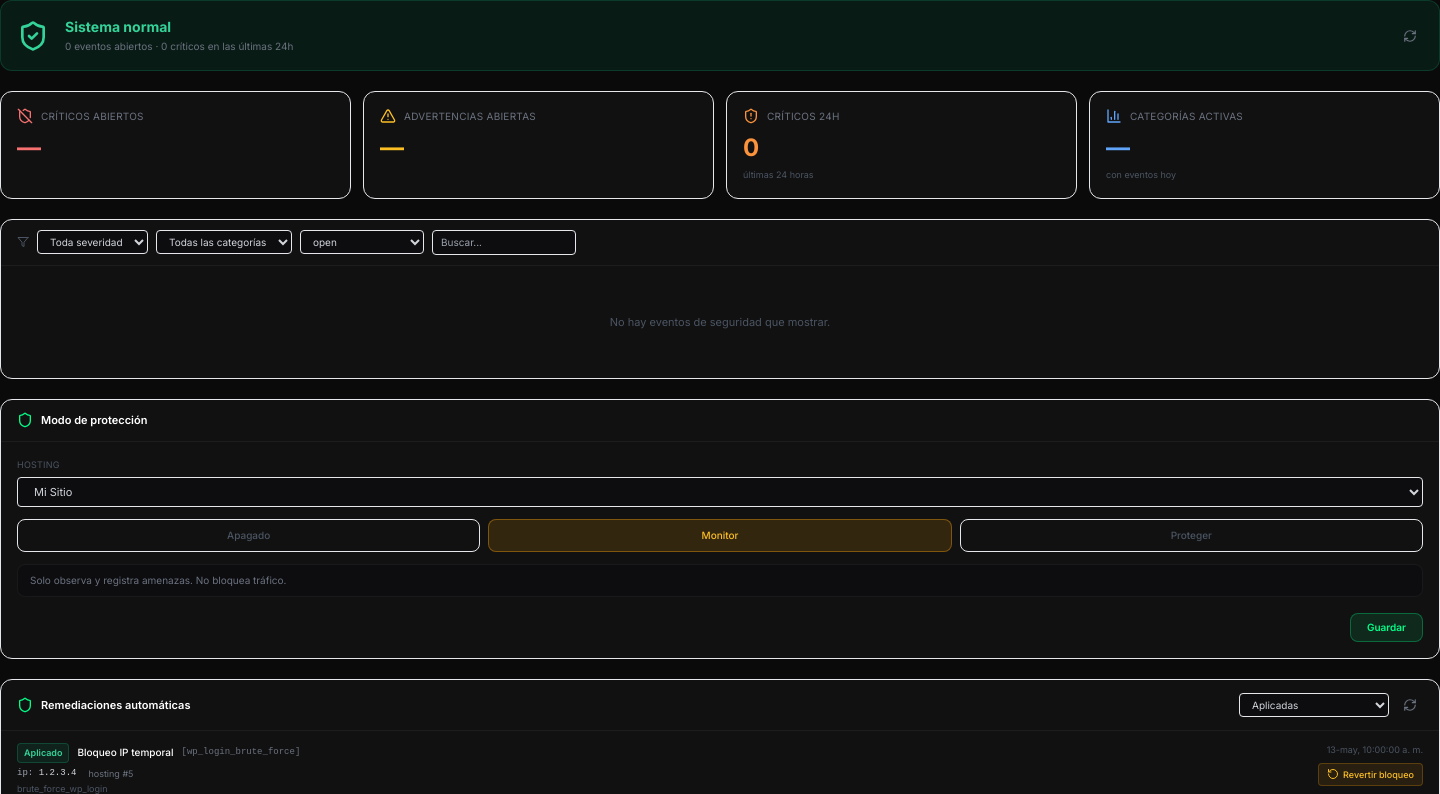
Test: SecurityCenter — RemediationsSection › confirming rollback shows success toast with correct message
The image size is (1440, 794).
Click the button with test id "rollback-btn".
click(1371, 774)  # box [1318, 762, 1423, 786]
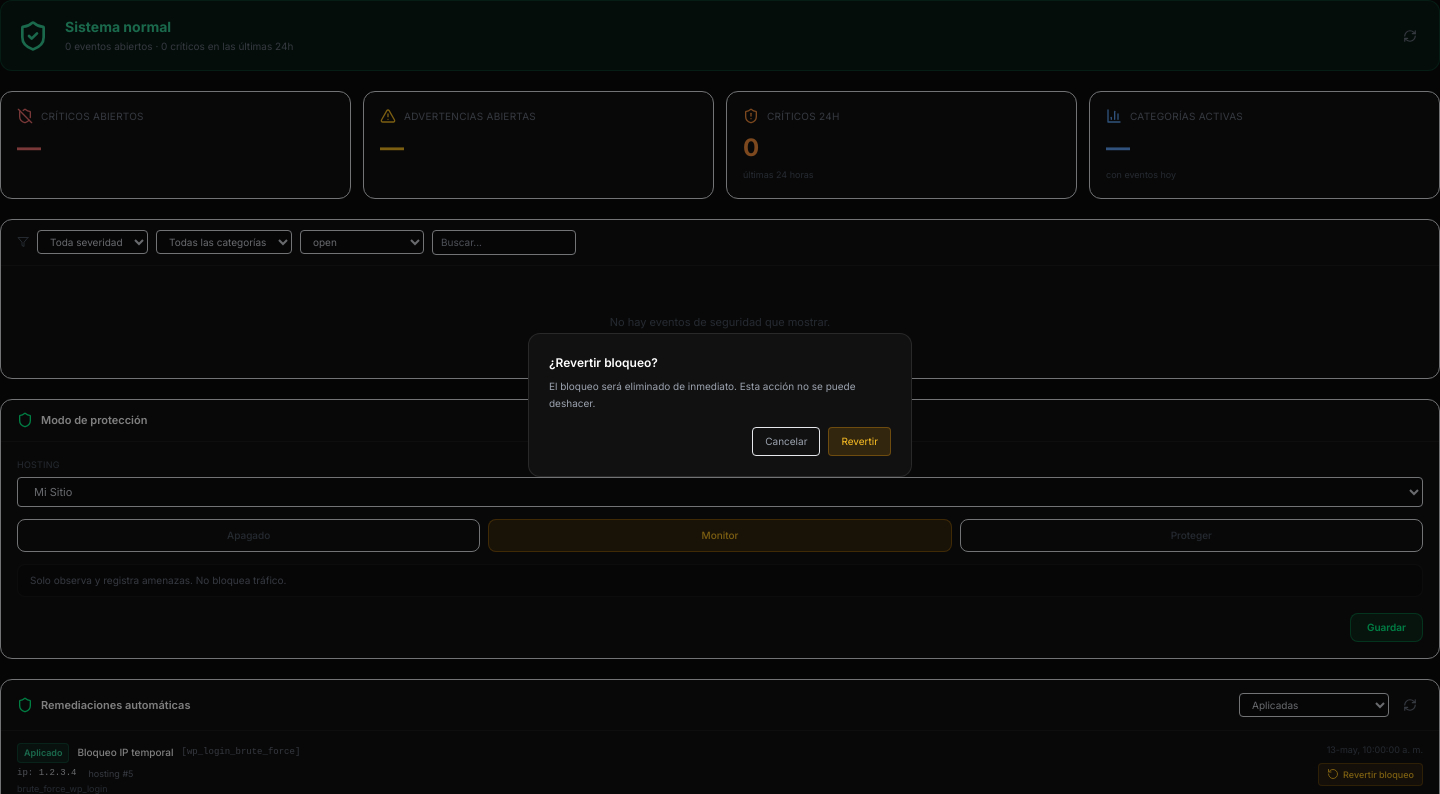
Check: the button with test id "rollback-confirm-btn" is shown
Click the button with test id "rollback-confirm-btn".
click(860, 441)  # box [828, 427, 891, 456]
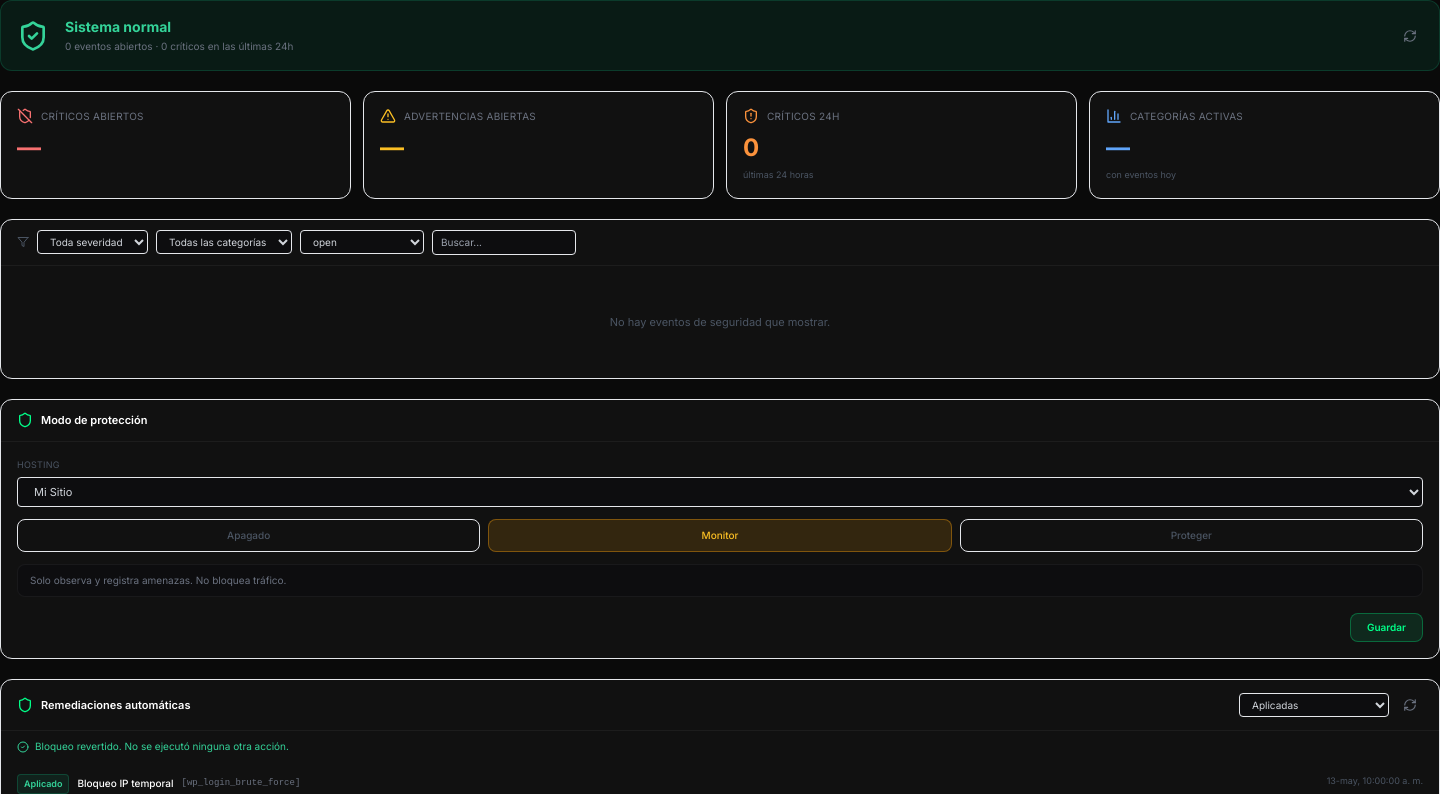
Check: the element with test id "rollback-toast" is shown, box [17, 740, 289, 752]
Check: the element with test id "rollback-toast" shows "No se ejecutó ninguna otra acción", box [35, 740, 289, 752]
